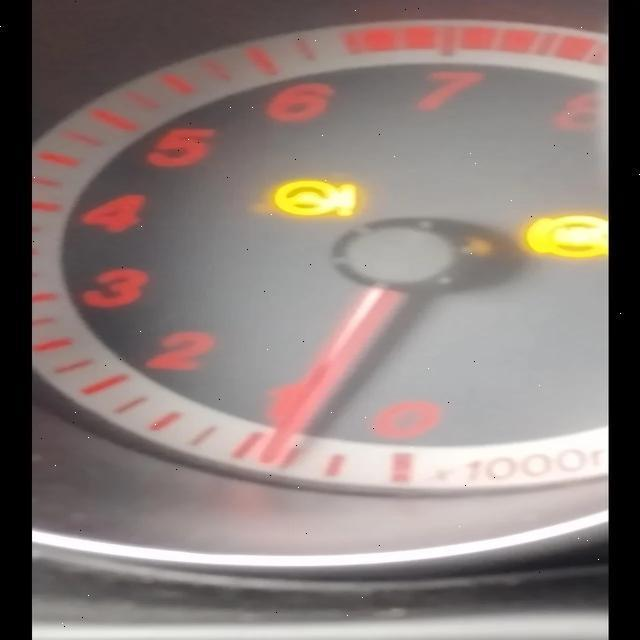Electronic Power Steering Warning: (265, 168, 361, 222)
